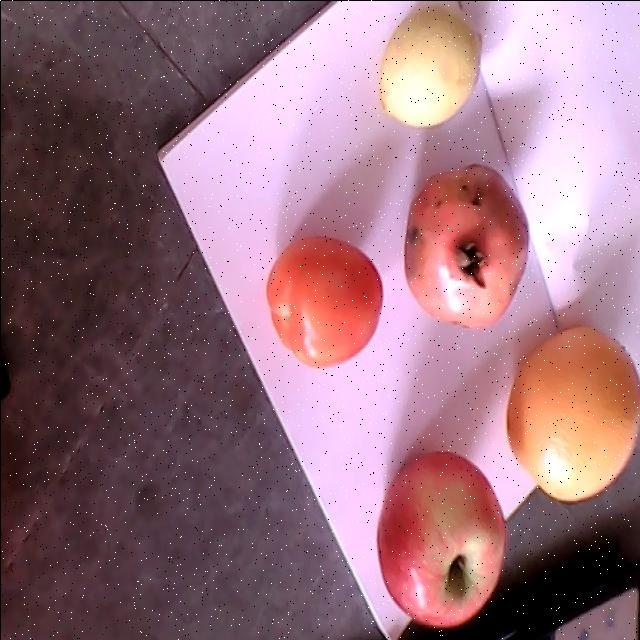apple: (377, 450, 507, 628)
lemon: (378, 1, 481, 127)
orange: (504, 325, 640, 501)
pomegranate: (404, 162, 528, 328)
tomato: (265, 232, 382, 367)
